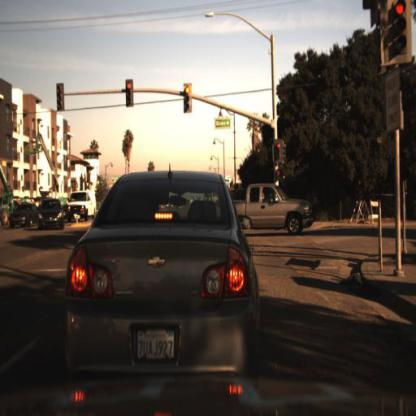car: (64, 170, 262, 392), (230, 186, 315, 236), (34, 195, 71, 231), (67, 189, 98, 225), (7, 202, 42, 231)
trafficLight: (184, 82, 194, 116), (56, 84, 65, 111)
trafficLight-Red: (383, 2, 414, 65), (388, 1, 406, 56), (274, 140, 285, 165), (126, 79, 135, 109), (277, 139, 282, 155)
truck: (68, 191, 96, 222)
